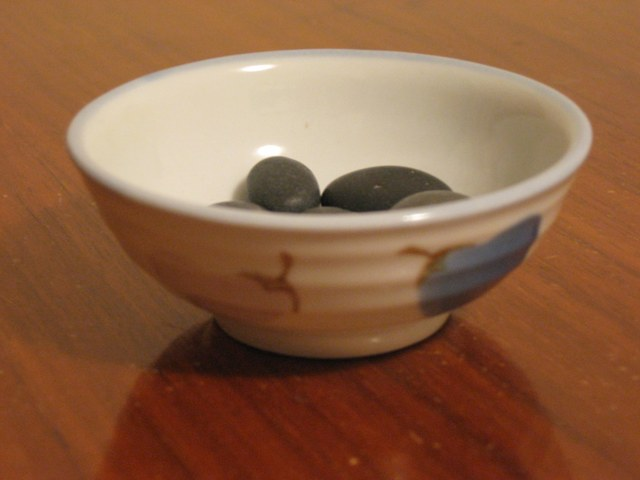bowl: (67, 50, 594, 358)
